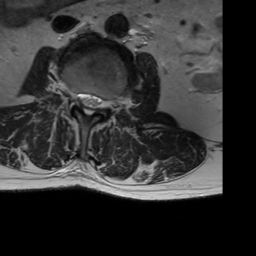CCS_normal: (86, 87, 94, 120)
LFS_normal: (102, 91, 109, 115)
LLS_normal: (94, 89, 102, 116)
RFS_normal: (70, 86, 78, 111)
RLS_normal: (78, 87, 86, 114)
